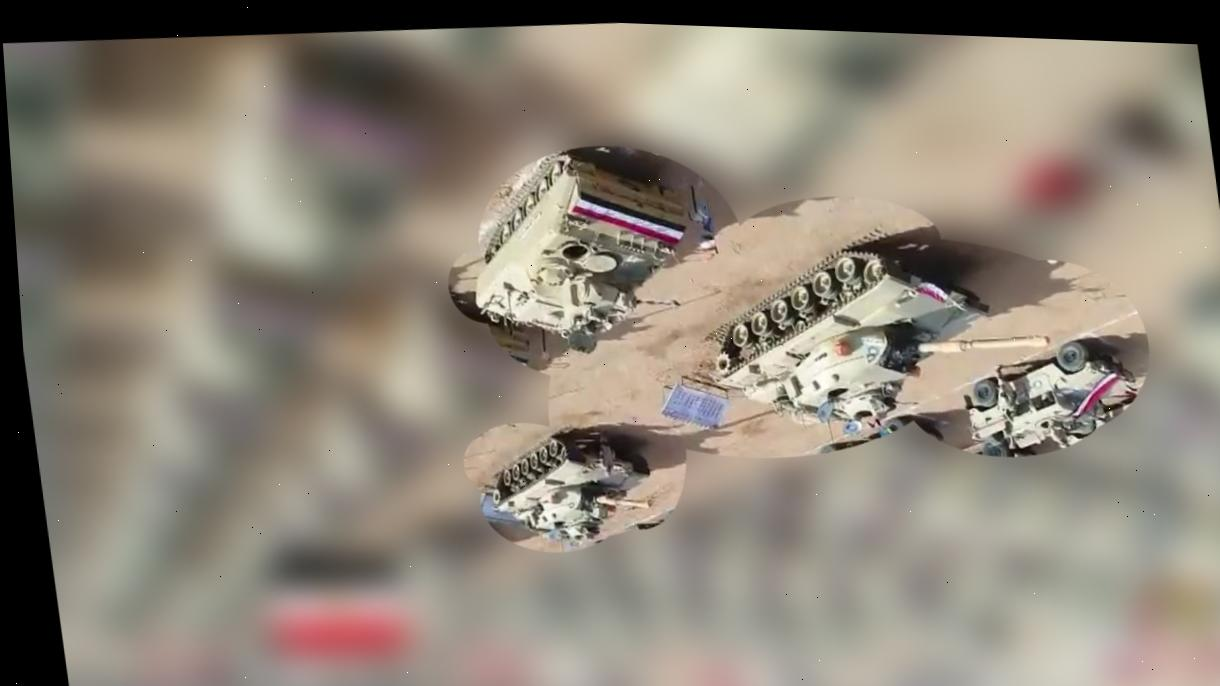armored_car: (455, 126, 712, 360), (950, 332, 1152, 466)
tank: (686, 226, 1072, 454), (480, 417, 666, 559)
